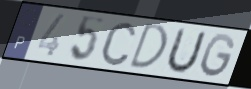4: (35, 12, 67, 59)
5: (69, 16, 107, 65)
C: (98, 20, 138, 68)
D: (126, 22, 169, 70)
G: (198, 32, 237, 80)
U: (163, 26, 209, 76)
